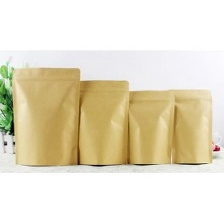snack: (8, 62, 85, 169), (71, 74, 133, 168), (123, 85, 179, 166), (164, 84, 216, 167)
